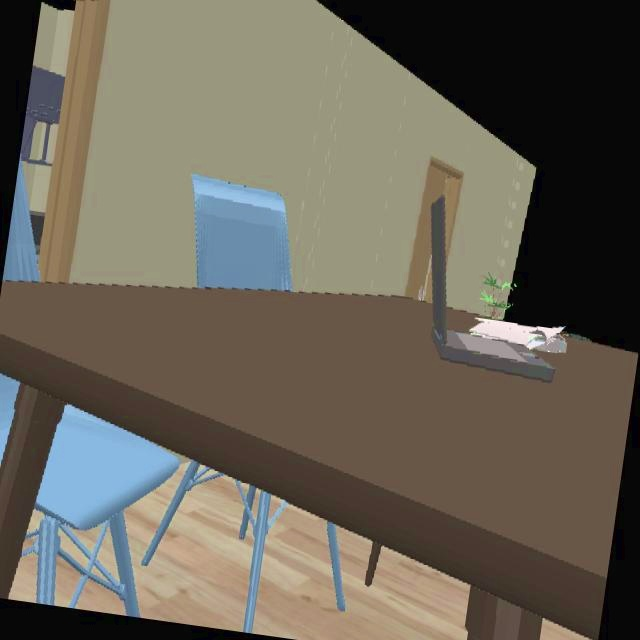book: (470, 318, 565, 353)
chair: (22, 407, 179, 615), (192, 177, 291, 290), (143, 463, 219, 564), (239, 484, 286, 630), (5, 157, 39, 282), (0, 375, 19, 463), (328, 523, 344, 610)
laptop: (431, 197, 555, 382)
table: (0, 283, 638, 640)
